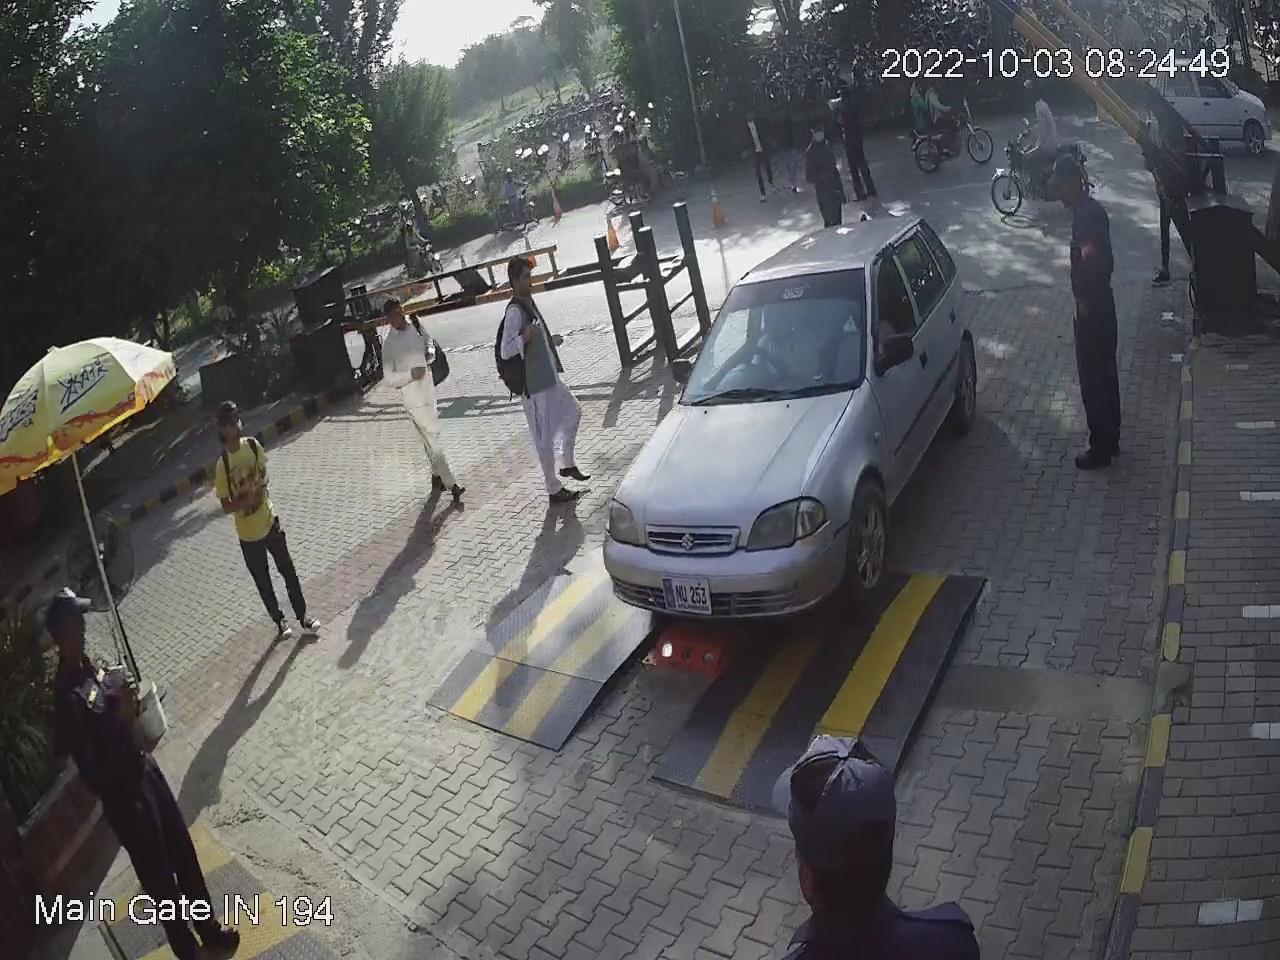windshield: (680, 262, 873, 407)
